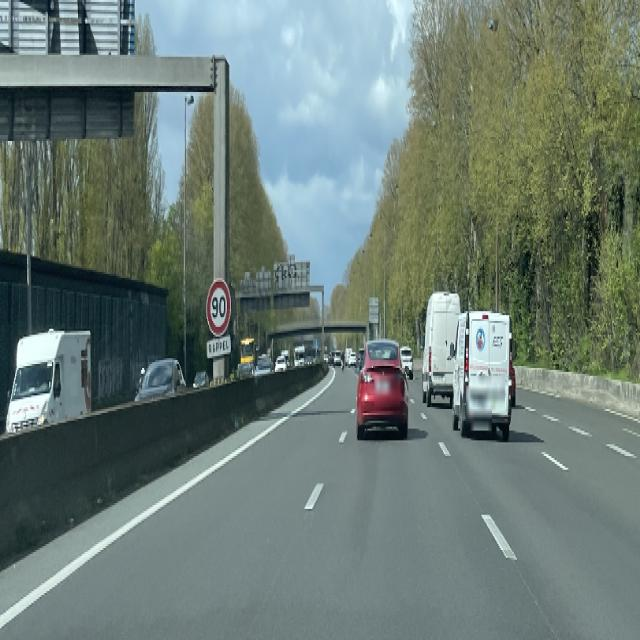speed_90: (206, 279, 232, 339)
